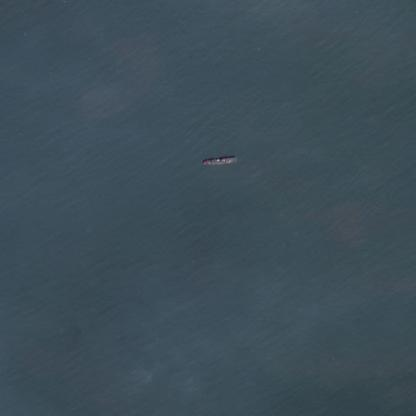ship: (196, 150, 242, 172)
